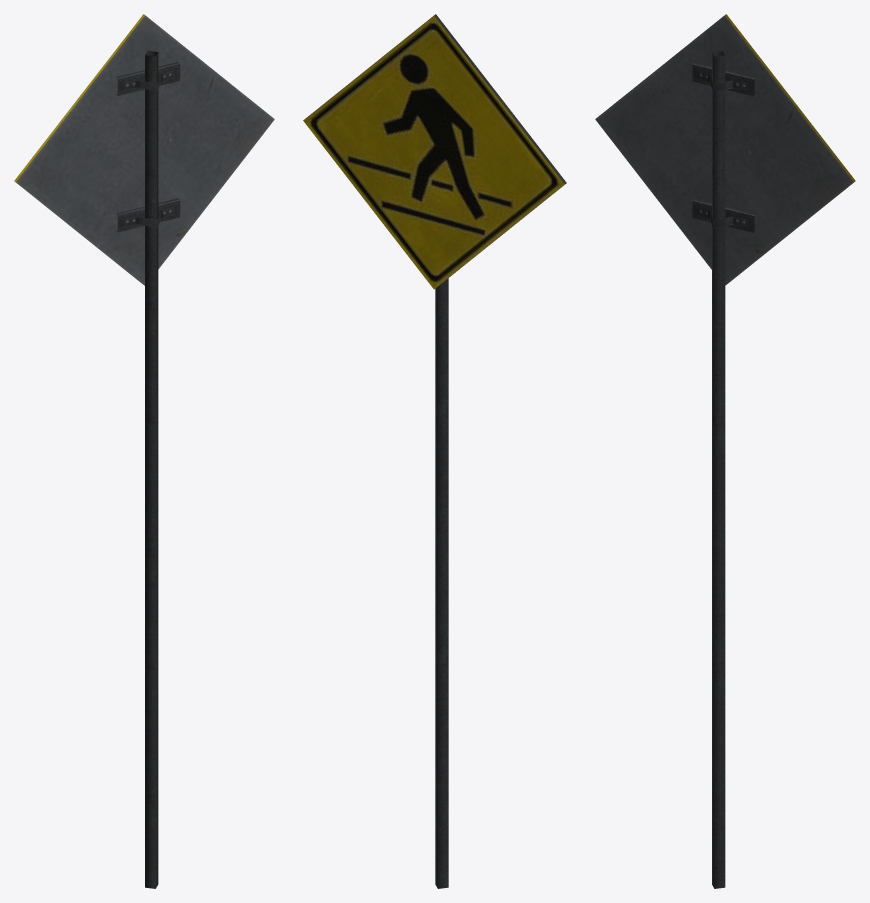
File: Pedestrian_Crossing.glb
3 views of the same model, side by side, from view 1: azimuth 30°, elevation 25°; view 2: azimuth 150°, elevation 25°; view 3: azimuth 330°, elevation 25° (orthographic).
Visible parts, largest first — view 1: Pedestrian_Crossing__LOD1; view 2: Pedestrian_Crossing__LOD1; view 3: Pedestrian_Crossing__LOD1.
Part boxes in pixels (x1,y1,x2,y2): Pedestrian_Crossing__LOD1: (14,14,274,888); Pedestrian_Crossing__LOD1: (303,14,566,888); Pedestrian_Crossing__LOD1: (595,14,855,888).
Bounding box in the file's own units: 0.9743 × 3.11 × 0.0893.
Materials: 1 (1 with a texture image).
